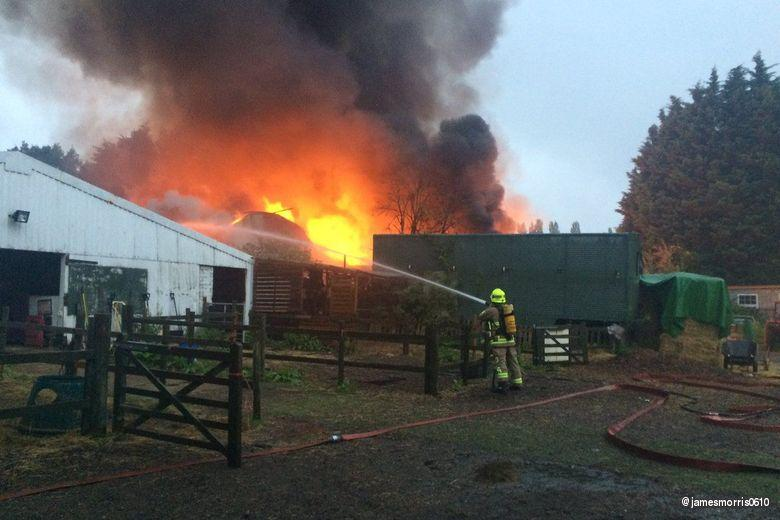Fire: (231, 149, 429, 282)
